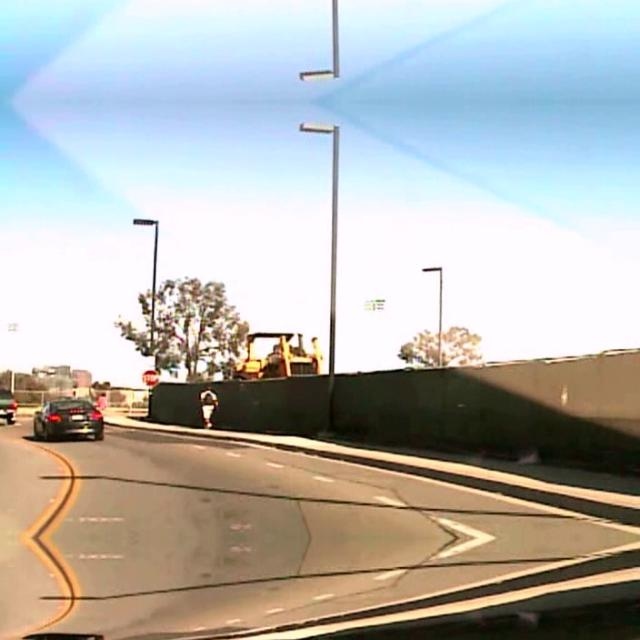stop: (140, 368, 158, 384)
